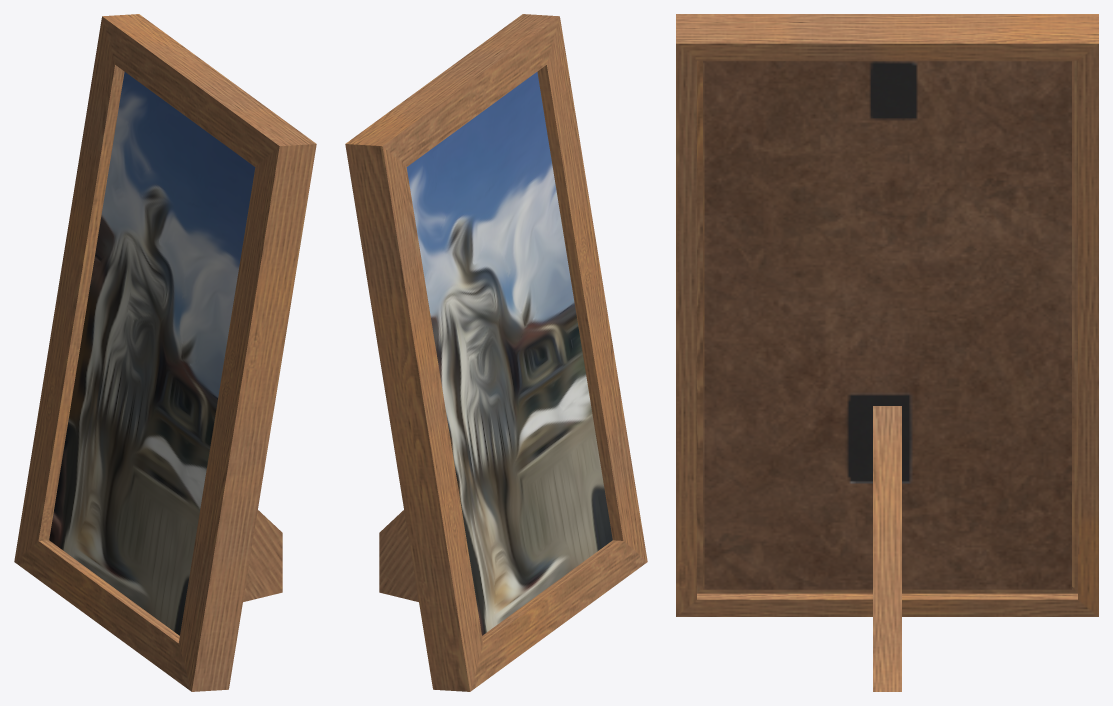
The model's file is SM_Photo_05.fbx.
3 views of the same model, side by side, from view 1: azimuth 30°, elevation 25°; view 2: azimuth 150°, elevation 25°; view 3: azimuth 270°, elevation 25° (orthographic). The views are drawn at different scales.
Visible parts, largest first — view 1: SM_Photo_05_LOD0; view 2: SM_Photo_05_LOD0; view 3: SM_Photo_05_LOD0.
Part boxes in pixels (x1,y1,x2,y2): SM_Photo_05_LOD0: (14,14,316,691); SM_Photo_05_LOD0: (345,14,647,691); SM_Photo_05_LOD0: (676,14,1098,691).
Size of the model in its own units: 8.03 by 14.24 by 23.5.
Materials: 1 (1 with a texture image).
